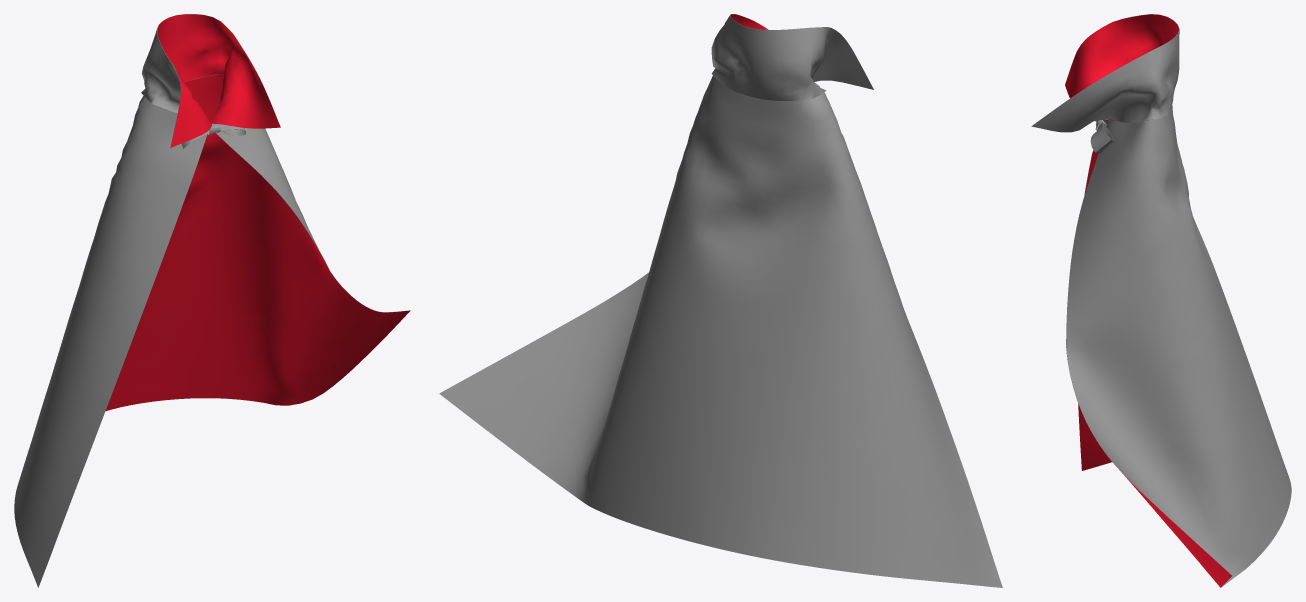
File: Cape2Sided.FBX
The picture shows the model from 3 angles, left to right: view 1: azimuth 30°, elevation 25°; view 2: azimuth 150°, elevation 25°; view 3: azimuth 270°, elevation 25°; orthographic projection. The views are drawn at different scales.
Parts seen in each view (by area): view 1: default; view 2: default; view 3: default.
Part boxes in pixels (left/top/right/bottom): default: left=14, top=14, right=410, bottom=587; default: left=439, top=14, right=1002, bottom=587; default: left=1031, top=14, right=1291, bottom=587.
Size of the model in its own units: 80.26 by 86.08 by 37.63.
